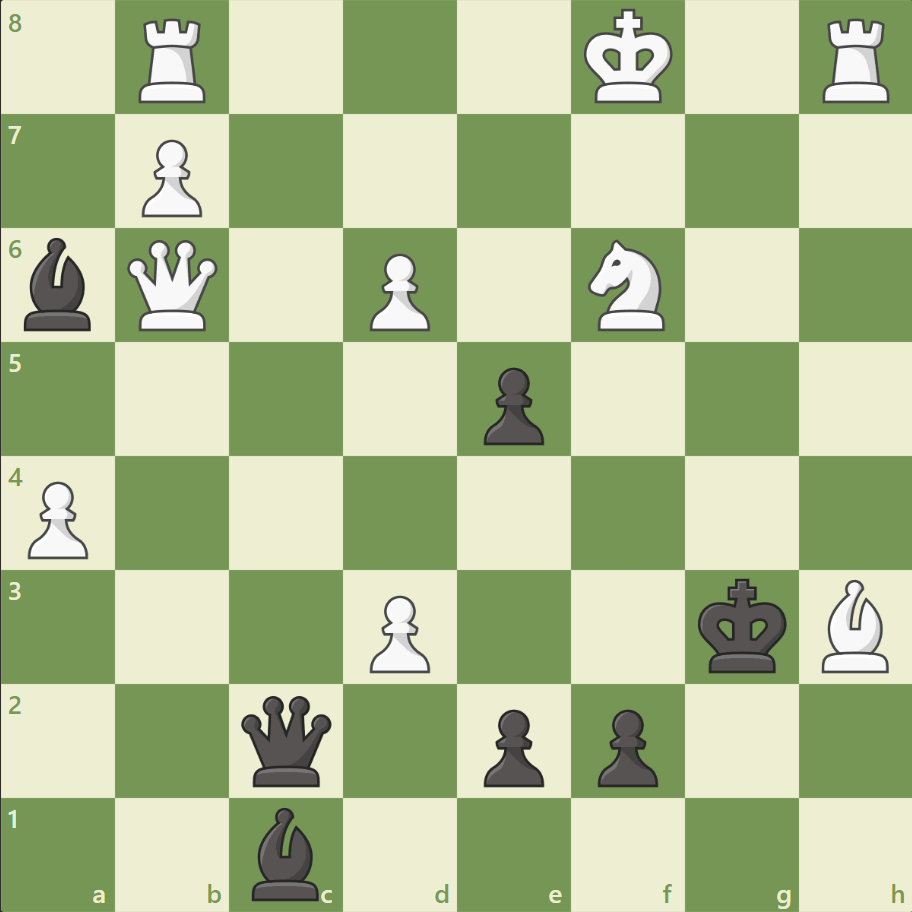B: (812, 574, 896, 676)
K: (579, 4, 679, 112)
N: (579, 234, 676, 337)
P: (133, 132, 208, 223), (20, 473, 95, 564), (361, 246, 435, 337), (361, 586, 435, 677)
Q: (124, 236, 223, 335)
R: (814, 12, 897, 109), (133, 12, 215, 109)
b: (17, 233, 101, 336), (244, 801, 328, 904)
k: (692, 571, 792, 679)
p: (474, 359, 549, 450), (474, 700, 549, 791), (588, 700, 662, 791)
q: (237, 690, 336, 789)
